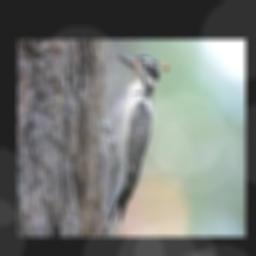Woodpecker: (97, 53, 169, 230)
